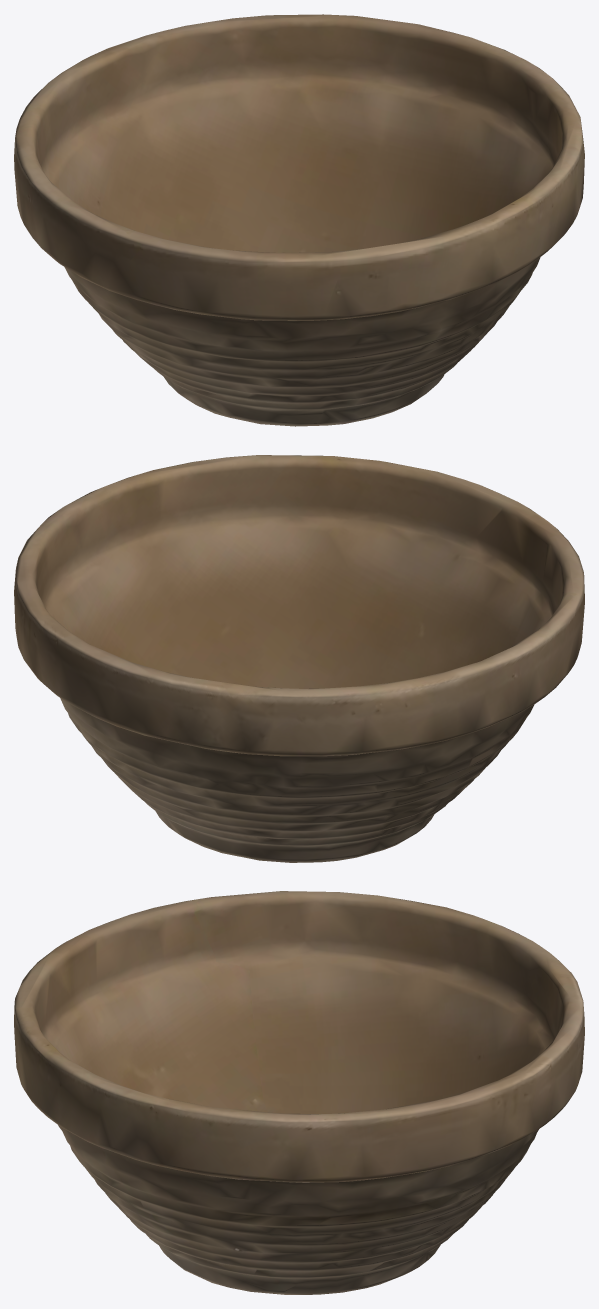
File: deep-bowl.glb
3 views of the same model, one above another, from view 1: azimuth 30°, elevation 25°; view 2: azimuth 150°, elevation 25°; view 3: azimuth 270°, elevation 25° (orthographic).
Parts seen in each view (by area): view 1: Cole_Hardware_Deep_Bowl_Good_Earth_1075; view 2: Cole_Hardware_Deep_Bowl_Good_Earth_1075; view 3: Cole_Hardware_Deep_Bowl_Good_Earth_1075.
Boxes of the visible parts, x1,y1,x2,y2 form: Cole_Hardware_Deep_Bowl_Good_Earth_1075: (14, 14, 584, 426); Cole_Hardware_Deep_Bowl_Good_Earth_1075: (14, 455, 584, 862); Cole_Hardware_Deep_Bowl_Good_Earth_1075: (14, 891, 584, 1294).
Size of the model in its own units: 0.2837 by 0.1316 by 0.2843.
Materials: 1 (1 with a texture image).
